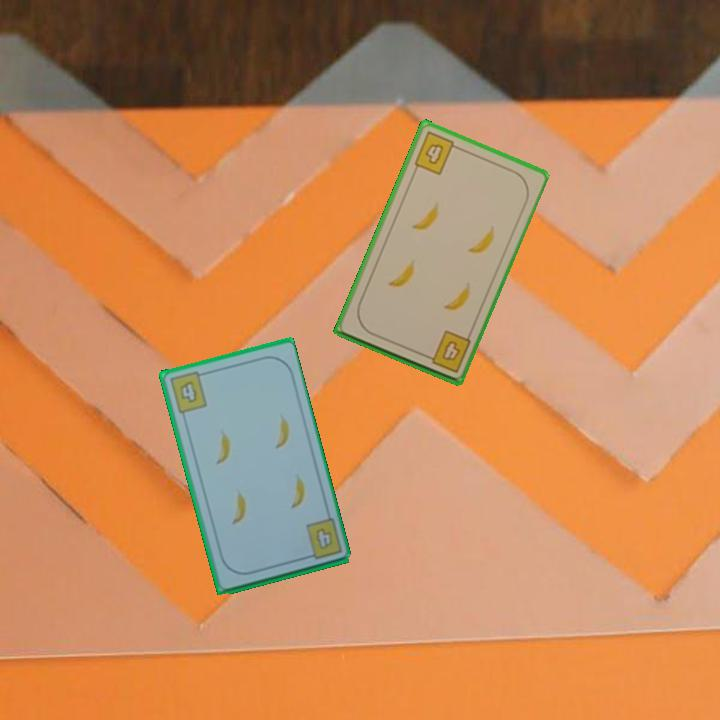4b: (410, 128, 463, 178), (420, 327, 474, 376), (300, 515, 345, 562), (166, 368, 210, 416)
